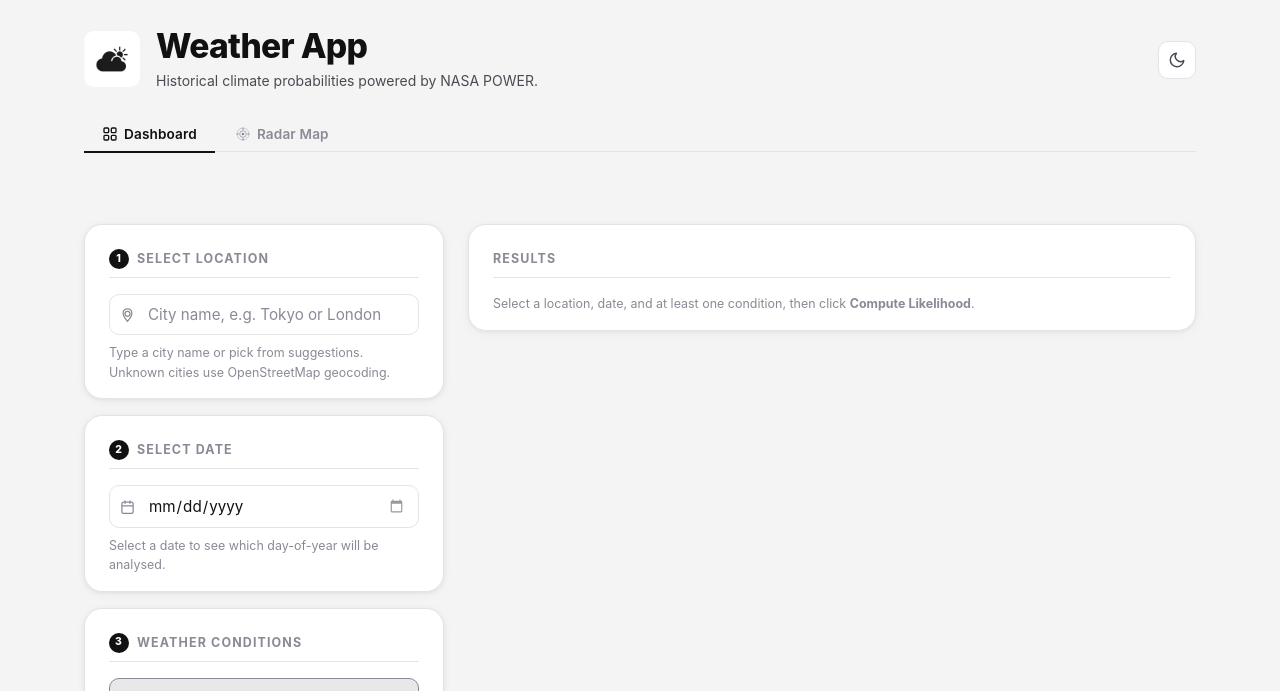
Test: App › shows results after successful compute
Type "Mumbai" into the field named "location" at (264, 315), box left=109, top=294, right=419, bottom=335
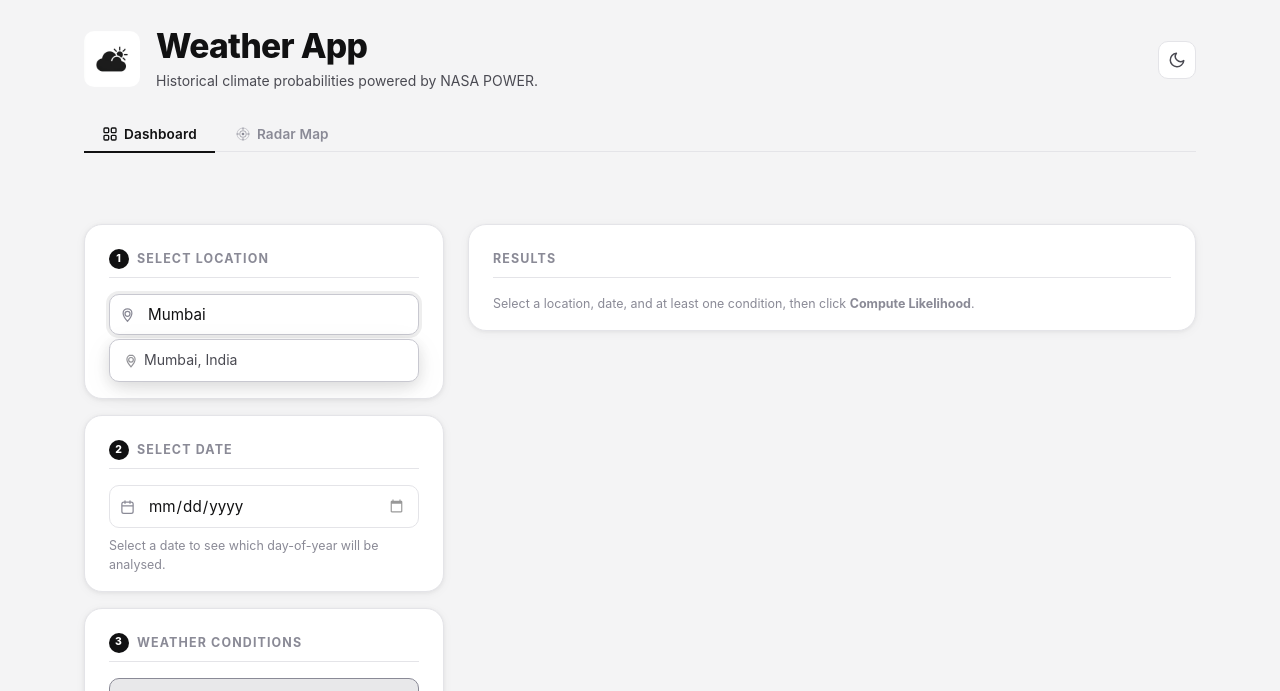
Type "2025-07-15" into the date field named "date" at (264, 506), box left=109, top=485, right=419, bottom=528
(page scrolled)
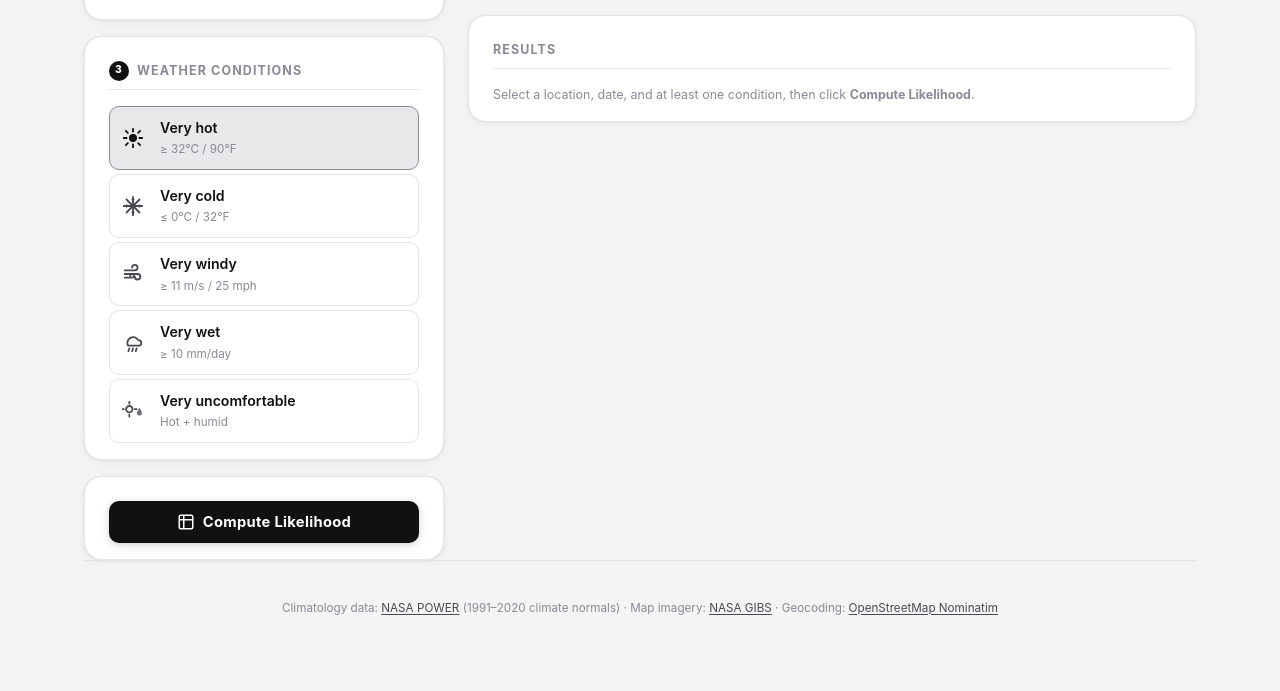
Click the button "Compute Likelihood" at (264, 522), box left=109, top=501, right=419, bottom=543
(page scrolled)
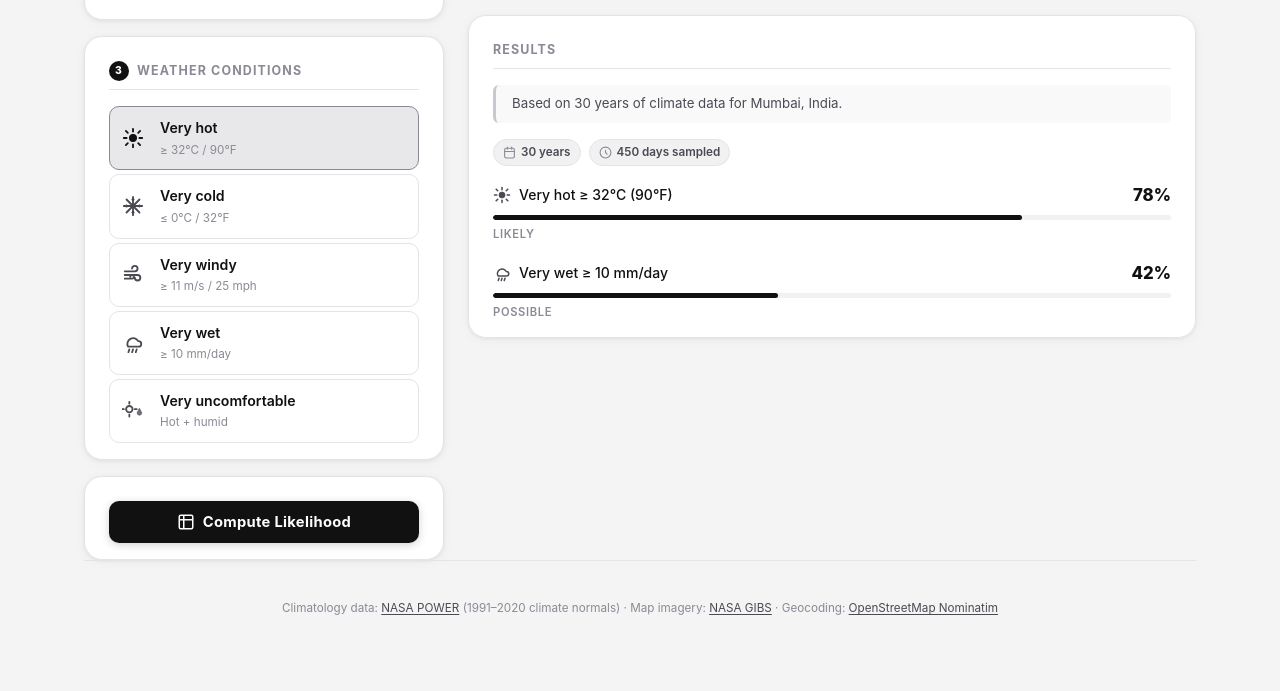
expect the text "Very hot ≥ 32°C (90°F)" is shown: met, box left=519, top=186, right=673, bottom=203
expect the text "78%" is shown: met, box left=1133, top=185, right=1171, bottom=205
expect the text "42%" is shown: met, box left=1125, top=259, right=1171, bottom=286
